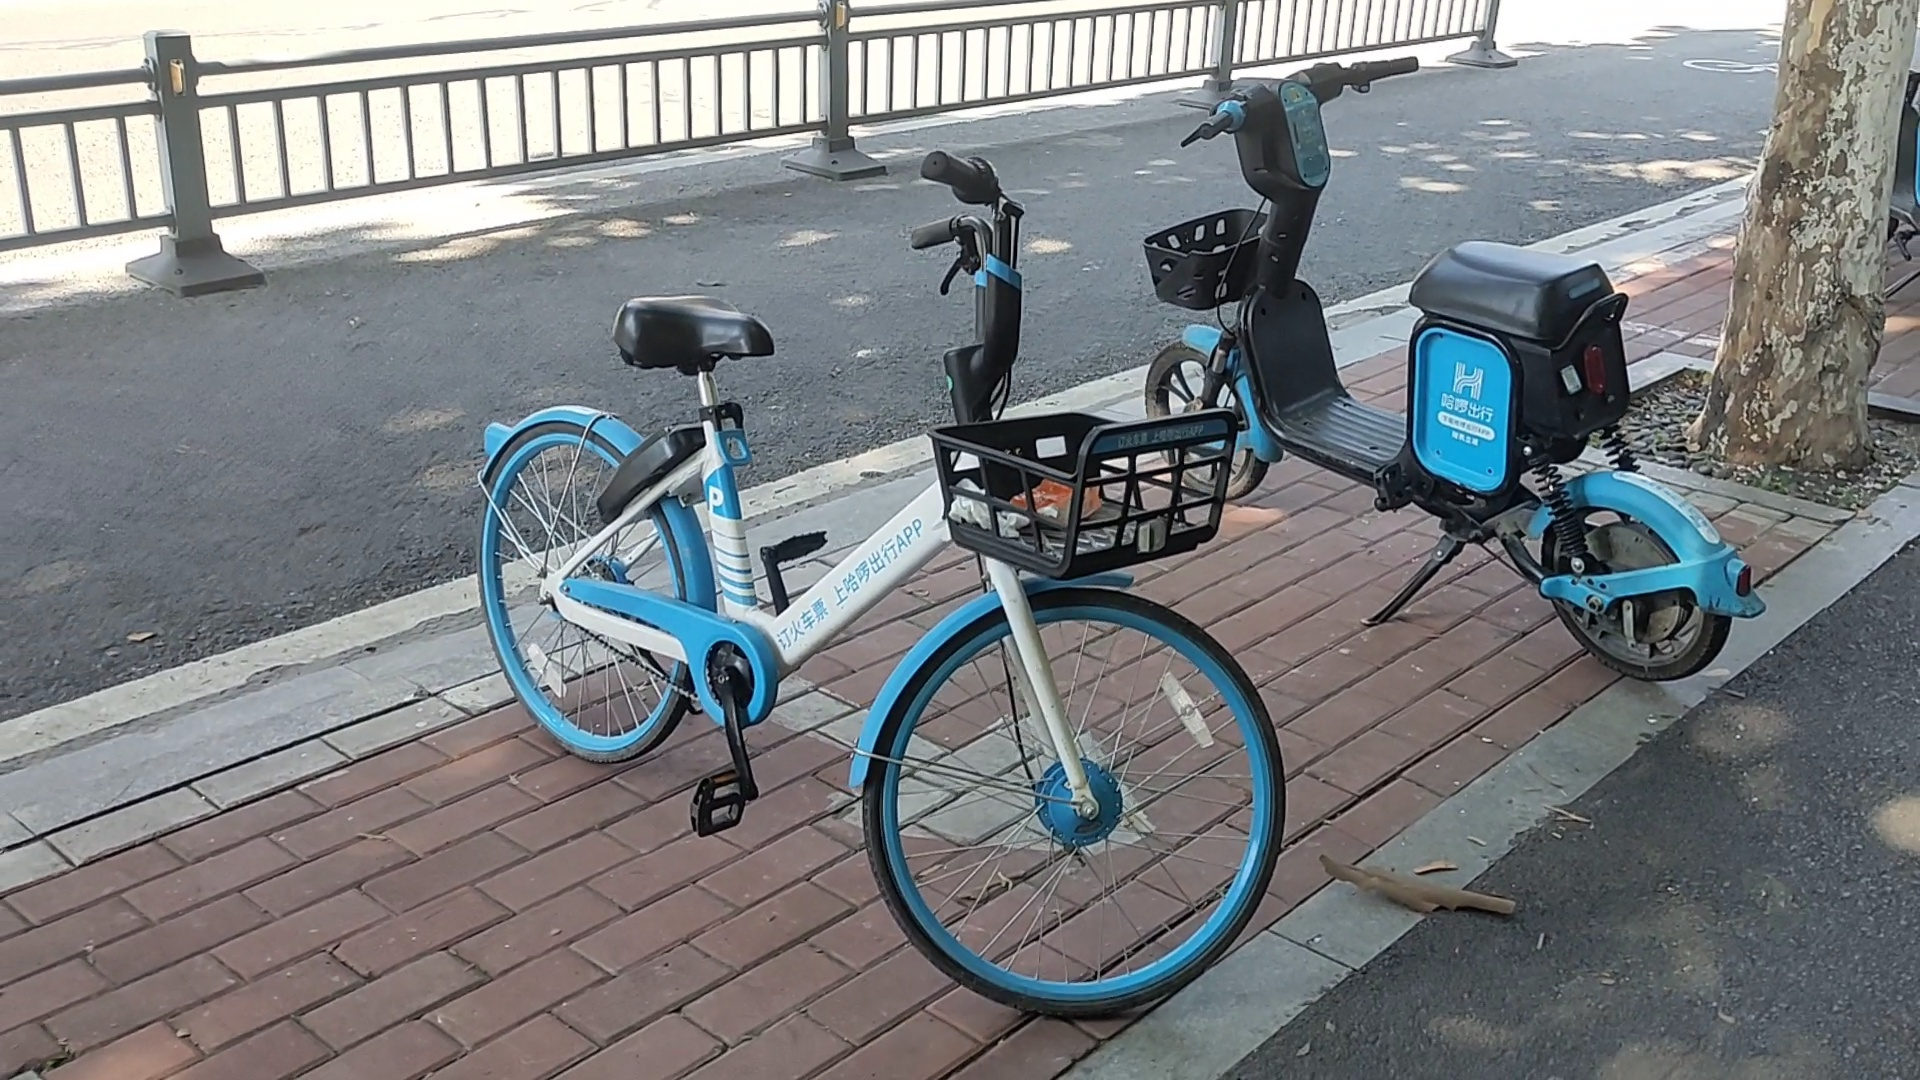non-vehicle: (481, 124, 1270, 1044), (1149, 40, 1766, 676)
